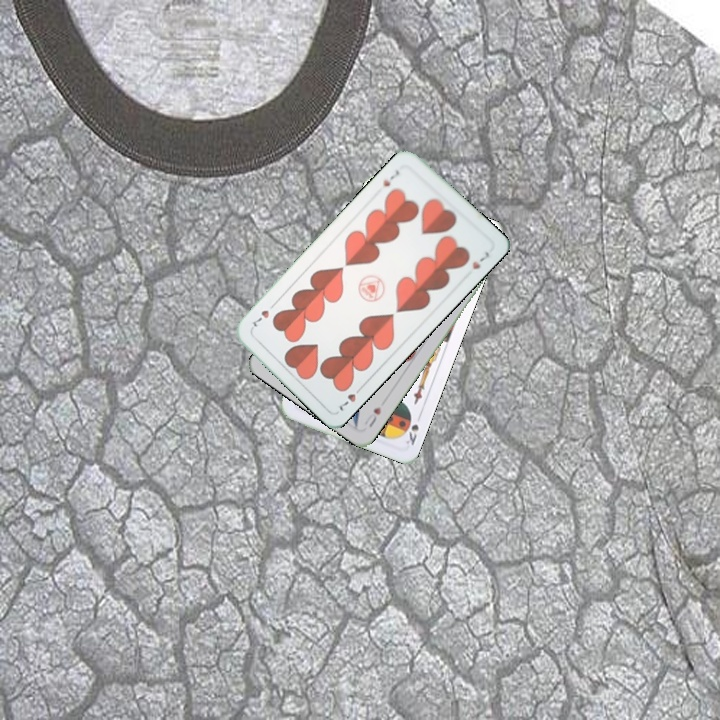H7: (335, 382, 366, 414), (379, 166, 402, 189)
HU: (360, 402, 384, 430)
SK: (402, 420, 421, 448)
